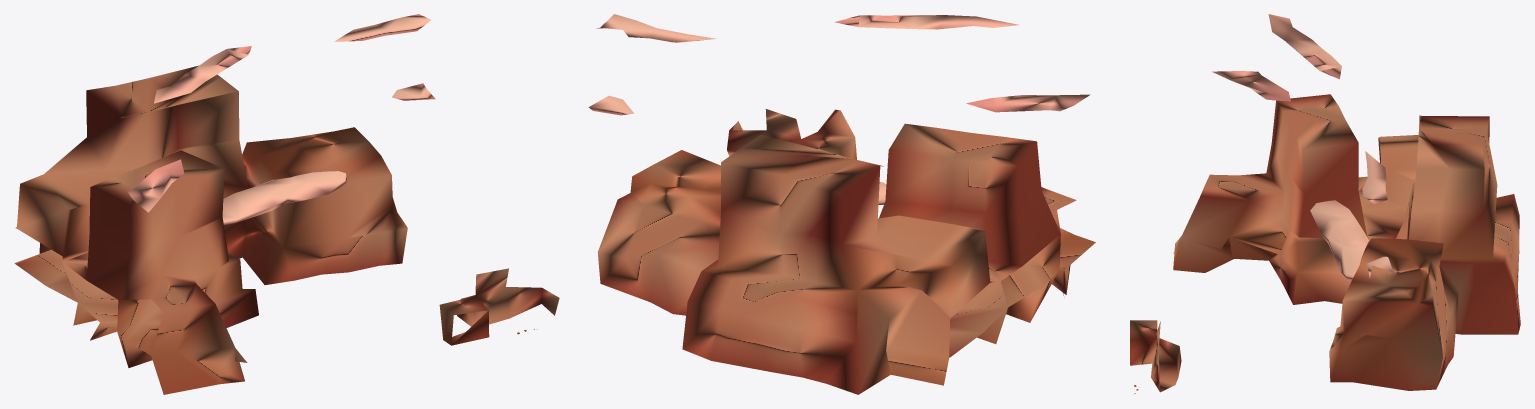
3 views of the same model, side by side, from view 1: azimuth 30°, elevation 25°; view 2: azimuth 150°, elevation 25°; view 3: azimuth 270°, elevation 25° (orthographic). The views are drawn at different scales.
Parts seen in each view (by area): view 1: scene.l1.1.0 (×2); view 2: scene.l1.1.0 (×2); view 3: scene.l1.1.0 (×2).
Boxes of the visible parts, left/top/right/bottom form: scene.l1.1.0 (×2): left=14, top=14, right=559, bottom=394; scene.l1.1.0 (×2): left=588, top=14, right=1095, bottom=394; scene.l1.1.0 (×2): left=1130, top=14, right=1520, bottom=392.
Size of the model in its own units: 125 by 81.68 by 120.
